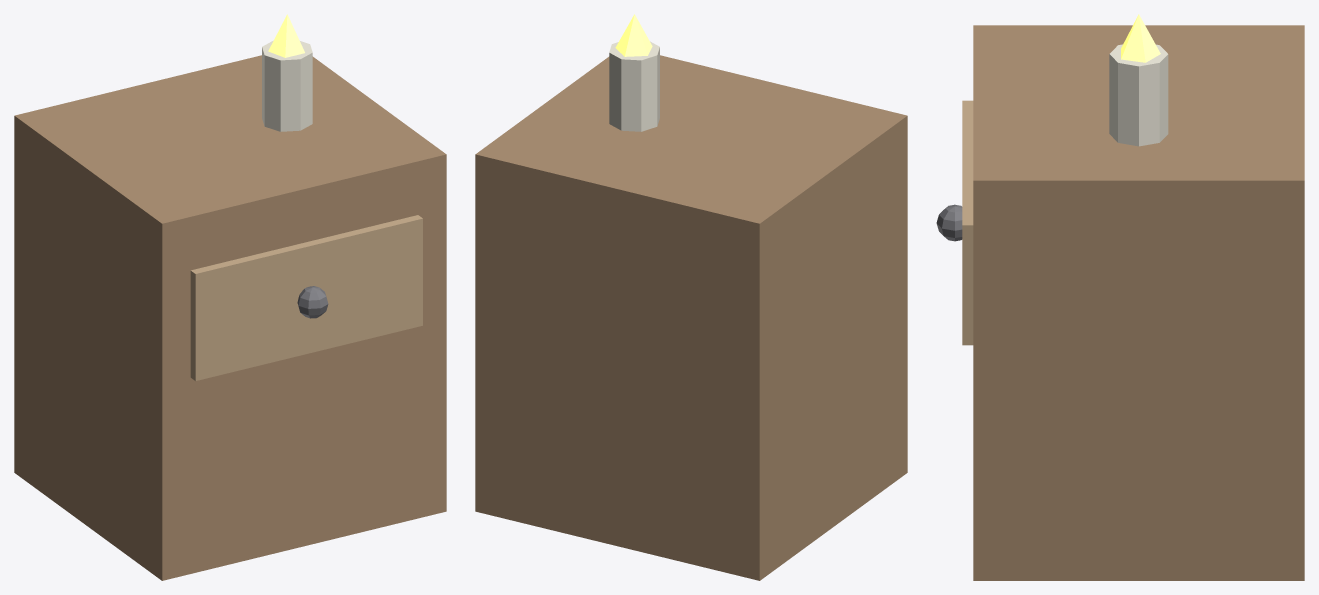
Rendered from nightstand.glb.
3 renders of one model, left to right at view 1: azimuth 30°, elevation 25°; view 2: azimuth 150°, elevation 25°; view 3: azimuth 270°, elevation 25°, orthographic. The views are drawn at different scales.
Visible parts, largest first — view 1: nightstand; view 2: nightstand; view 3: nightstand.
Boxes of the visible parts, left/top/right/bottom form: nightstand: left=14, top=14, right=446, bottom=580; nightstand: left=475, top=14, right=907, bottom=580; nightstand: left=936, top=14, right=1304, bottom=580.
Bounding box in the file's own units: 0.5 × 0.78 × 0.5.
